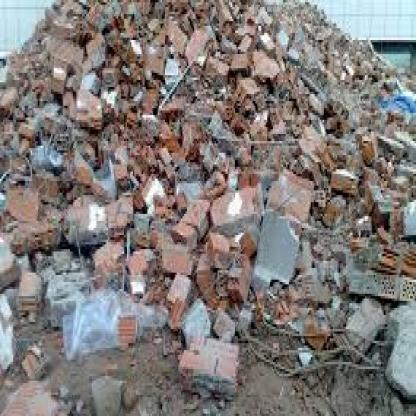brick: (1, 0, 415, 414)
